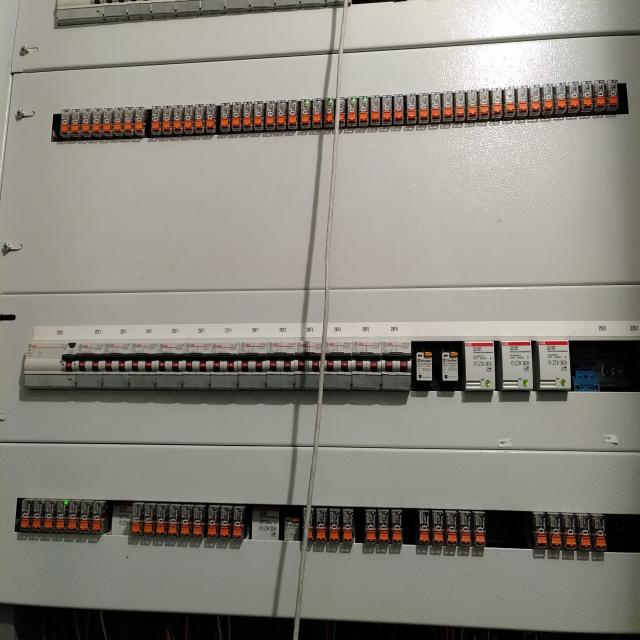Dimmer: (537, 340, 572, 391), (501, 341, 532, 392), (462, 340, 492, 391)
Leitungsschutzschalter: (33, 327, 77, 387), (380, 322, 411, 390), (352, 322, 382, 390), (266, 323, 297, 388), (323, 322, 353, 389), (238, 323, 268, 388), (294, 324, 324, 388), (75, 326, 105, 389), (182, 325, 211, 388), (210, 323, 238, 388), (102, 326, 130, 388), (129, 326, 157, 387), (156, 326, 183, 386), (438, 342, 466, 389), (411, 341, 437, 390), (284, 512, 302, 540), (581, 81, 593, 112), (393, 94, 404, 124), (358, 96, 369, 126), (370, 95, 381, 125), (312, 98, 323, 128), (347, 96, 358, 126), (542, 84, 553, 114), (242, 102, 253, 132), (324, 97, 335, 126), (467, 91, 478, 120), (382, 94, 392, 124), (183, 106, 194, 133), (206, 104, 216, 133), (288, 100, 298, 129), (162, 106, 172, 134)
Relais: (591, 513, 607, 550), (576, 514, 592, 548), (547, 514, 563, 548), (533, 512, 548, 548), (219, 506, 234, 538), (389, 509, 403, 543), (431, 510, 445, 544), (417, 510, 431, 544), (92, 501, 107, 532), (473, 511, 486, 546), (192, 505, 206, 537), (568, 81, 582, 113), (459, 510, 472, 544), (131, 503, 145, 534), (376, 509, 389, 542), (315, 509, 328, 542), (366, 508, 378, 543), (328, 508, 341, 540), (179, 504, 192, 536), (445, 511, 458, 543), (342, 508, 354, 542), (20, 499, 34, 528), (554, 83, 567, 114), (490, 88, 503, 119), (56, 500, 68, 533), (605, 82, 619, 110), (68, 500, 81, 530), (233, 507, 246, 537), (530, 84, 542, 116), (43, 500, 56, 529), (193, 104, 205, 135), (516, 85, 528, 116), (594, 82, 606, 112), (156, 504, 168, 534), (172, 105, 184, 135), (230, 102, 242, 132), (441, 91, 453, 121), (454, 90, 466, 120), (477, 90, 489, 120), (144, 504, 156, 534), (207, 506, 218, 538), (151, 106, 162, 136), (253, 101, 264, 131), (265, 101, 276, 131), (406, 93, 417, 123), (505, 87, 516, 117), (430, 92, 441, 122), (80, 501, 91, 531), (134, 107, 146, 134), (33, 499, 43, 531), (102, 107, 113, 136), (277, 100, 288, 129), (220, 102, 230, 132), (418, 93, 428, 123), (300, 99, 310, 128), (170, 504, 179, 536), (123, 107, 133, 135), (82, 108, 91, 138), (113, 108, 123, 135), (306, 508, 314, 541), (93, 108, 102, 137), (338, 97, 347, 126), (71, 109, 80, 137), (61, 110, 69, 137)
Schaltkasten: (2, 41, 640, 598)
